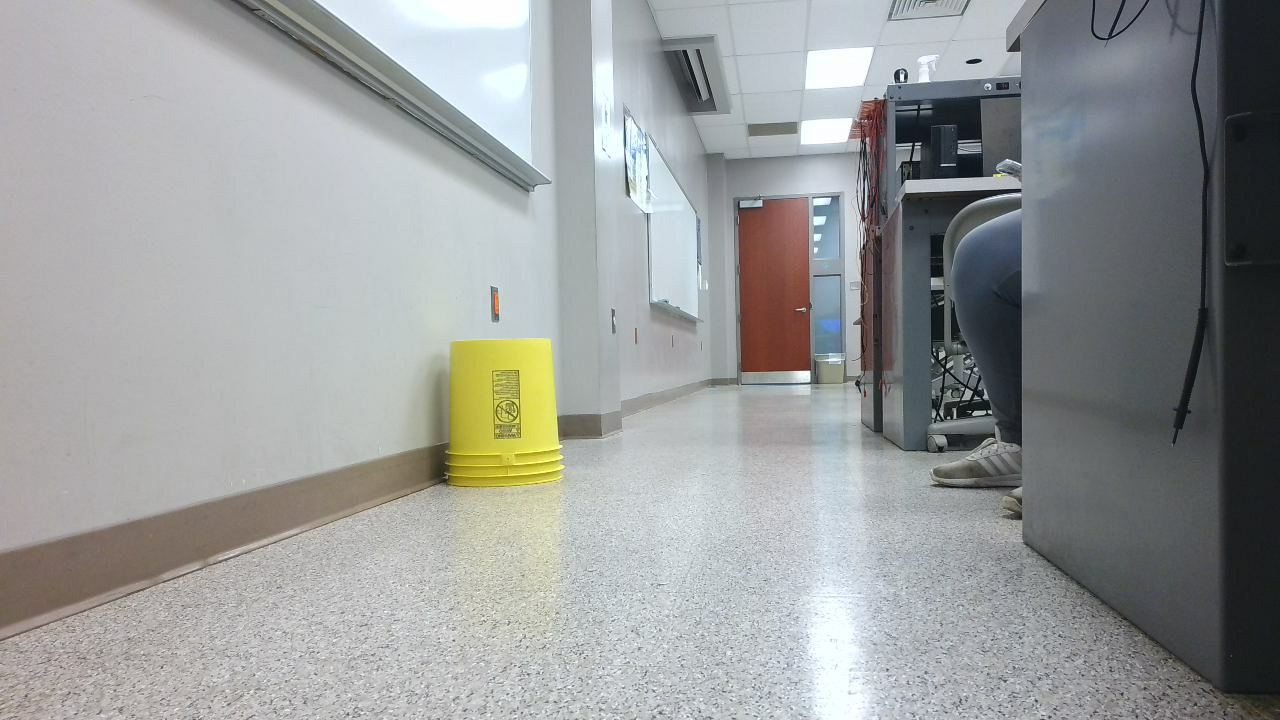yellow_bucket: (443, 339, 576, 497)
